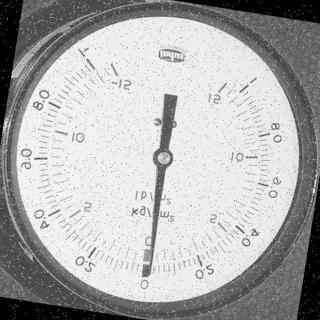gauge: (0, 0, 320, 320), (227, 69, 265, 105), (75, 48, 104, 78), (148, 144, 178, 172), (142, 257, 161, 281)
